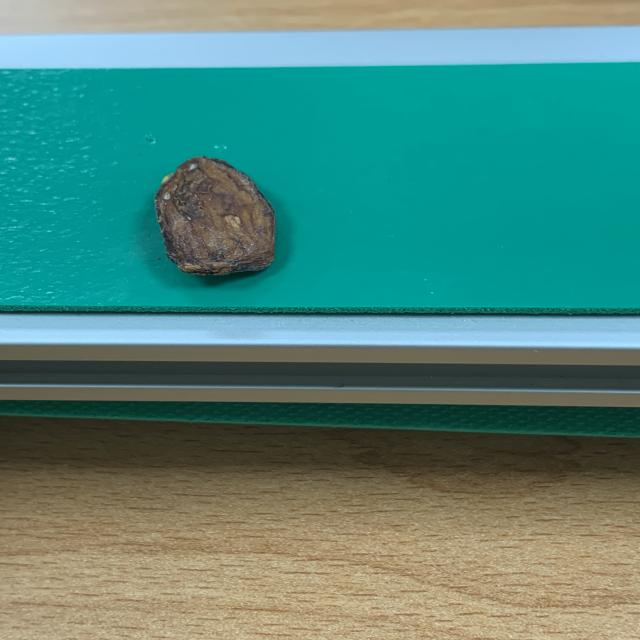Flat_cocoabeans: (118, 141, 345, 304)
